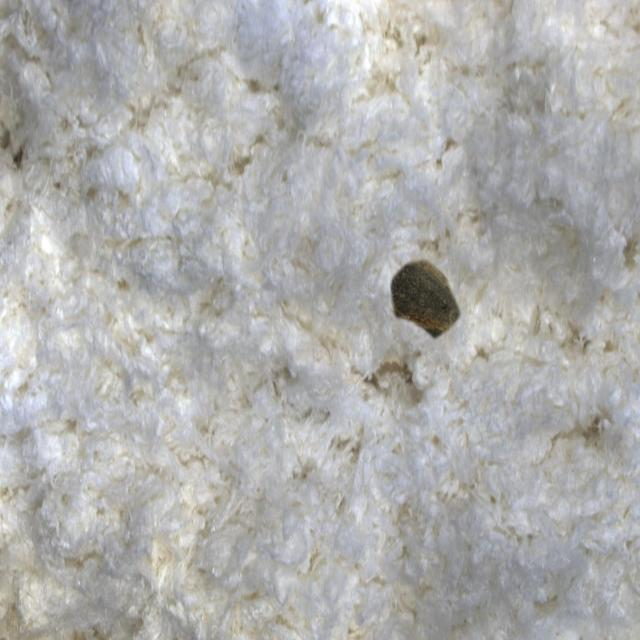dust: (372, 217, 498, 389)
